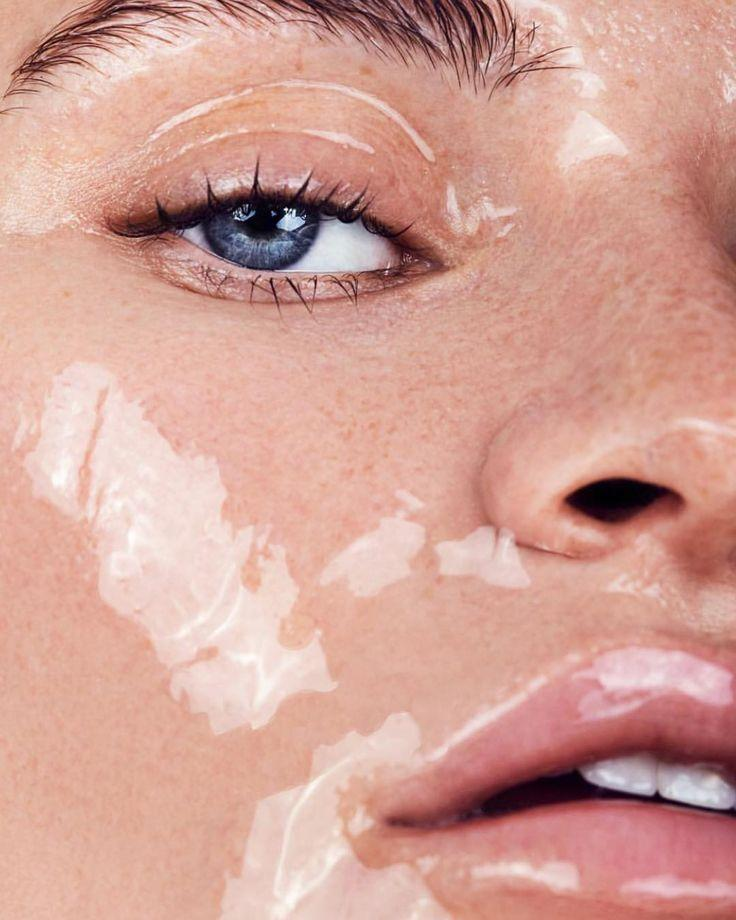Oily-Skin: (134, 564, 364, 726), (514, 0, 673, 175), (268, 771, 426, 920), (0, 411, 204, 524), (358, 484, 584, 580)
